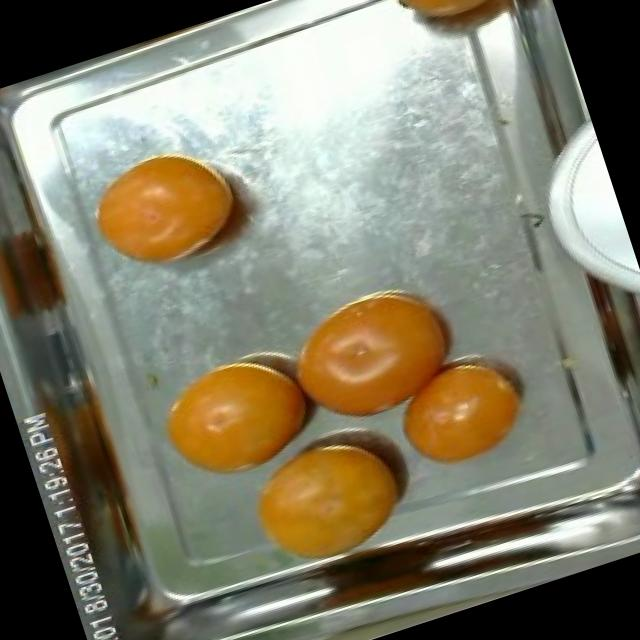Fruit: (264, 260, 496, 450), (226, 413, 432, 582), (138, 334, 336, 502), (73, 130, 260, 296), (372, 329, 550, 491), (367, 0, 556, 70)
